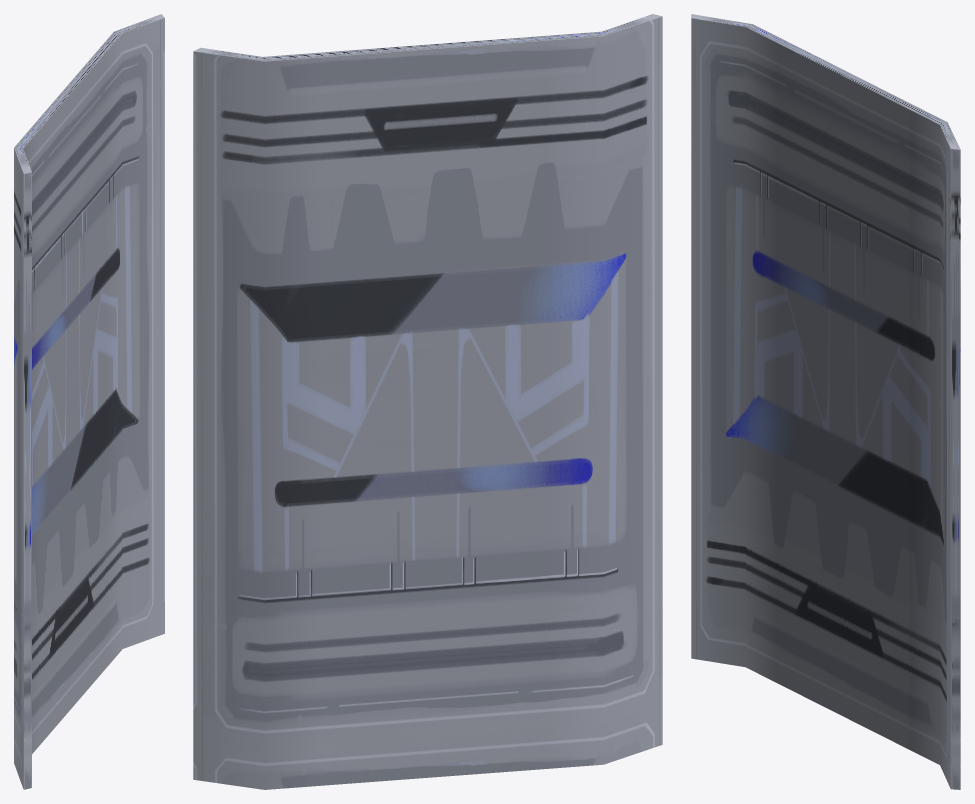
Rendered from curvedWall_2.fbx.
3 renders of one model, left to right at view 1: azimuth 30°, elevation 25°; view 2: azimuth 150°, elevation 25°; view 3: azimuth 270°, elevation 25°, orthographic. The views are drawn at different scales.
Visible parts, largest first — view 1: curvedWall_2; view 2: curvedWall_2; view 3: curvedWall_2.
Boxes of the visible parts, x1=… form: curvedWall_2: x1=14, y1=14, x2=164, y2=789; curvedWall_2: x1=193, y1=14, x2=662, y2=789; curvedWall_2: x1=691, y1=14, x2=960, y2=789.
Size of the model in its own units: 159 by 350 by 133.
Materials: 1 (1 with a texture image).
